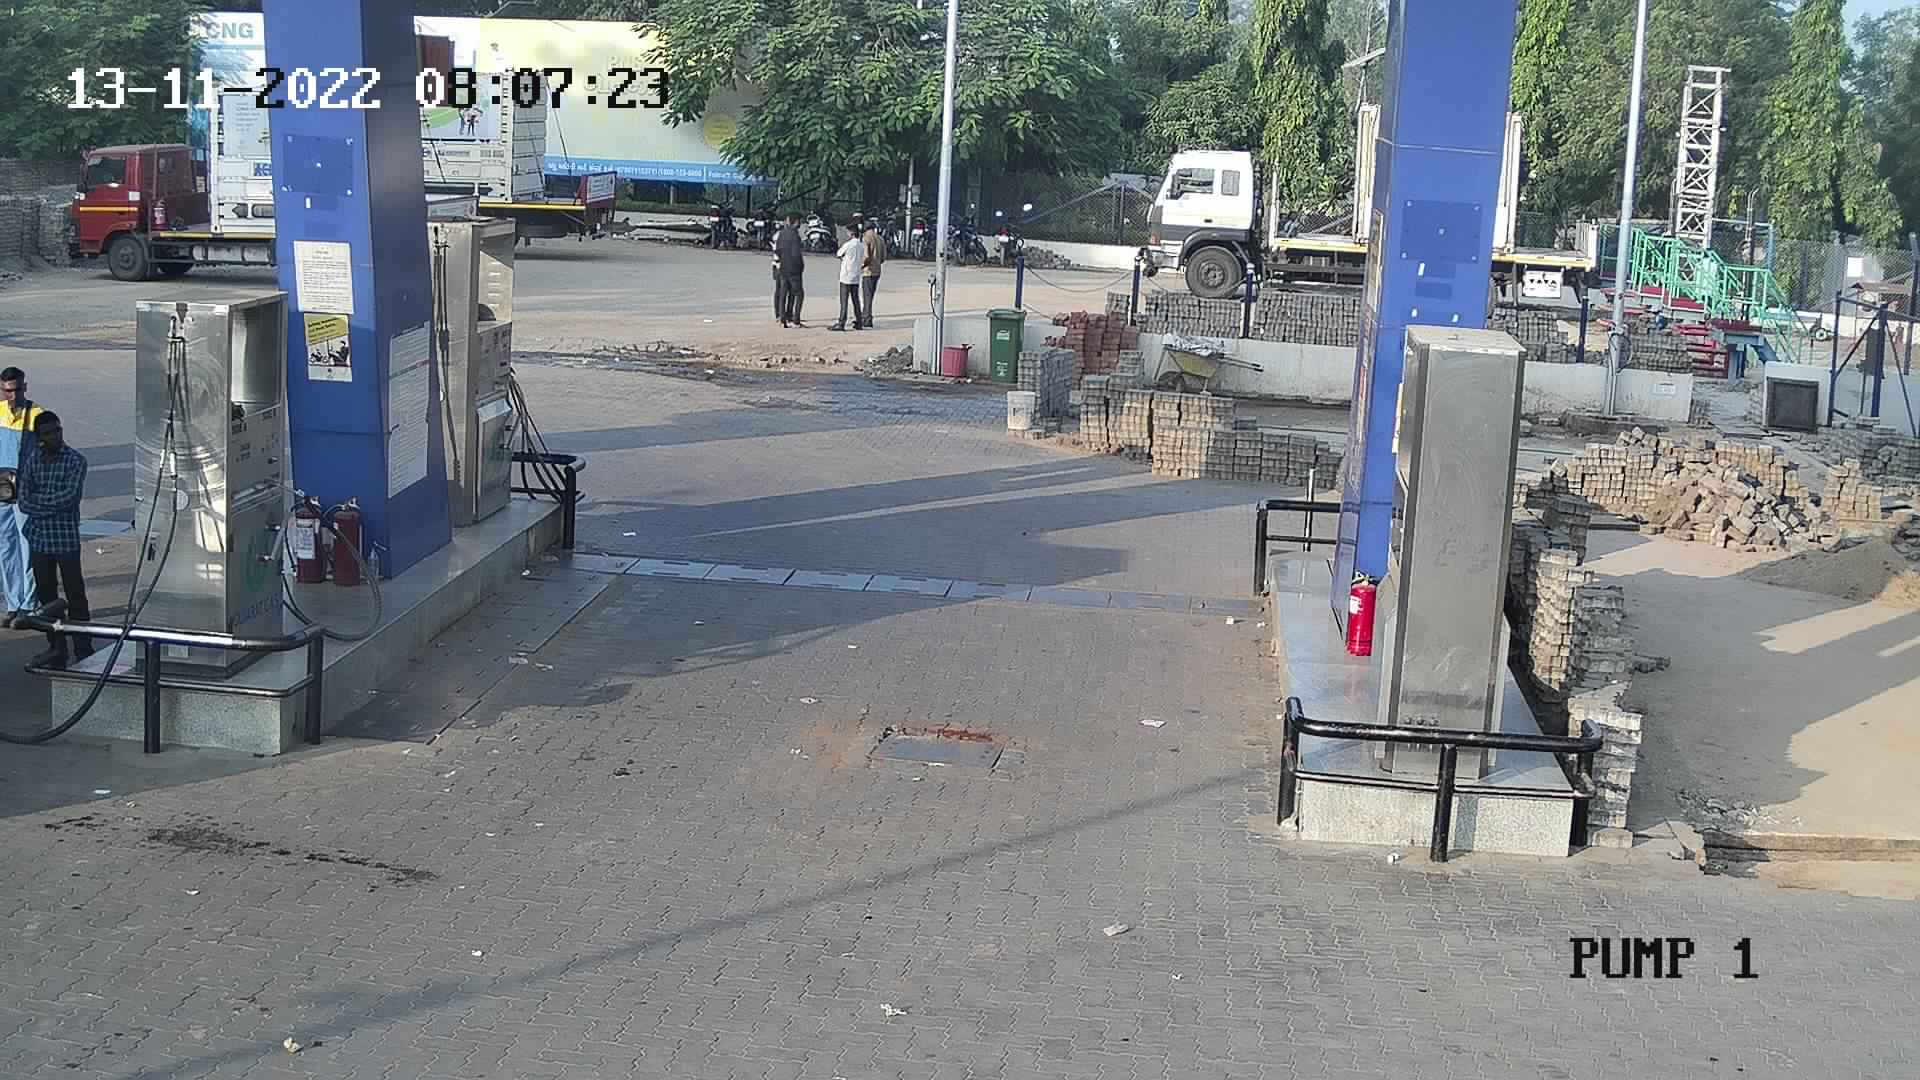Bike: (940, 198, 989, 269), (740, 186, 786, 255), (698, 181, 737, 258), (799, 189, 843, 257), (989, 200, 1034, 266), (905, 189, 938, 262)
HMV: (1121, 94, 1378, 307), (406, 51, 640, 257), (50, 76, 274, 290)
Others: (0, 363, 57, 641)
